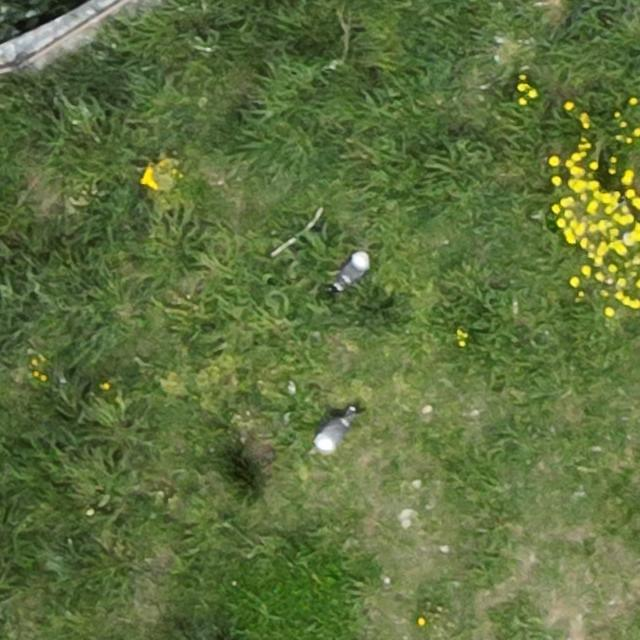umineko: (318, 415, 349, 447), (339, 251, 366, 284)
